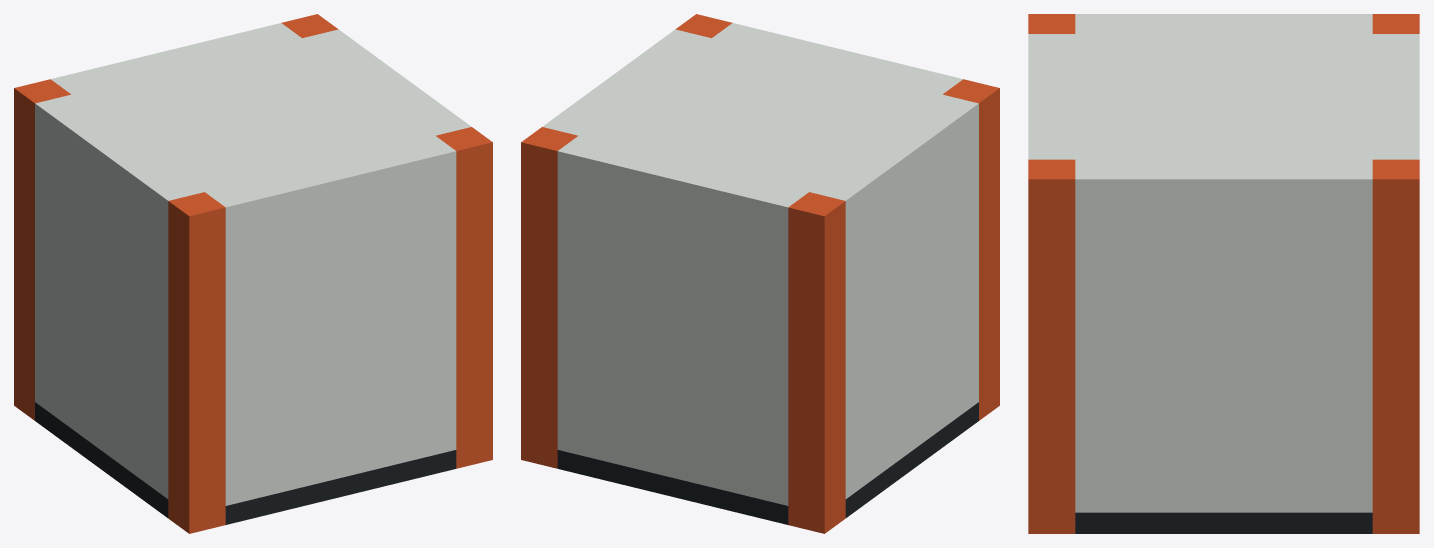
Rendered from ss_crate_small_1m.glb.
3 views of the same model, side by side, from view 1: azimuth 30°, elevation 25°; view 2: azimuth 150°, elevation 25°; view 3: azimuth 270°, elevation 25° (orthographic). The views are drawn at different scales.
Visible parts, largest first — view 1: crate_body, crate_posts, crate_base; view 2: crate_body, crate_posts, crate_base; view 3: crate_body, crate_posts, crate_base.
Part boxes in pixels (x1,y1,x2,y2): crate_body: (35,23,471,505); crate_posts: (14,14,492,533); crate_base: (35,402,456,524); crate_body: (542,23,978,505); crate_posts: (521,14,999,533); crate_base: (557,402,978,524); crate_body: (1028,14,1419,512); crate_posts: (1028,14,1419,533); crate_base: (1075,512,1372,533).
Bounding box in the file's own units: 1 × 1 × 1.
